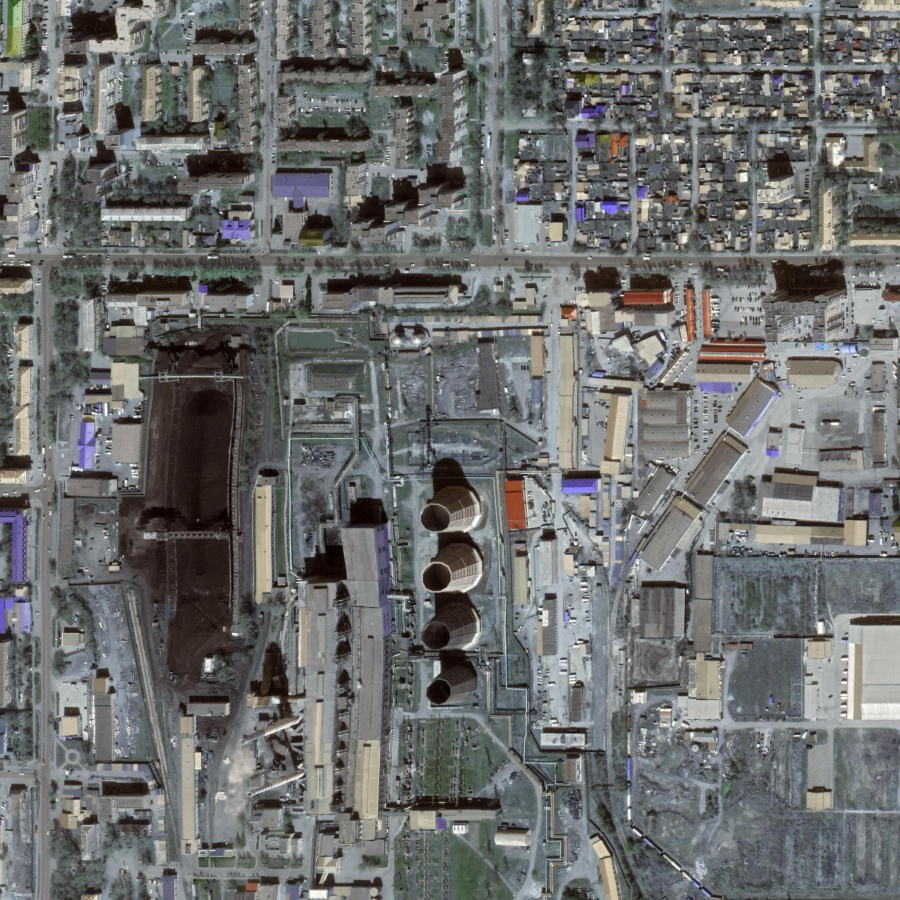PowerPlant: (105, 313, 515, 822)
